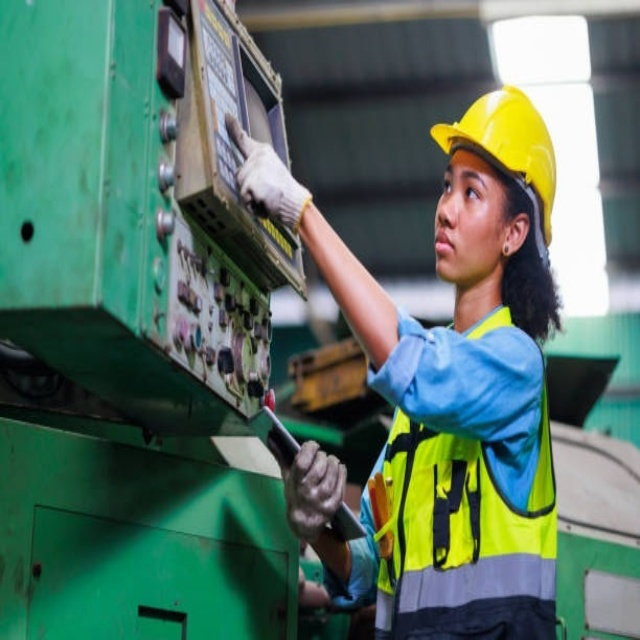Guantes: (227, 115, 312, 237), (280, 439, 348, 544)
Sin_gafas: (440, 155, 496, 212)
Sin_mascara: (433, 221, 468, 275)
